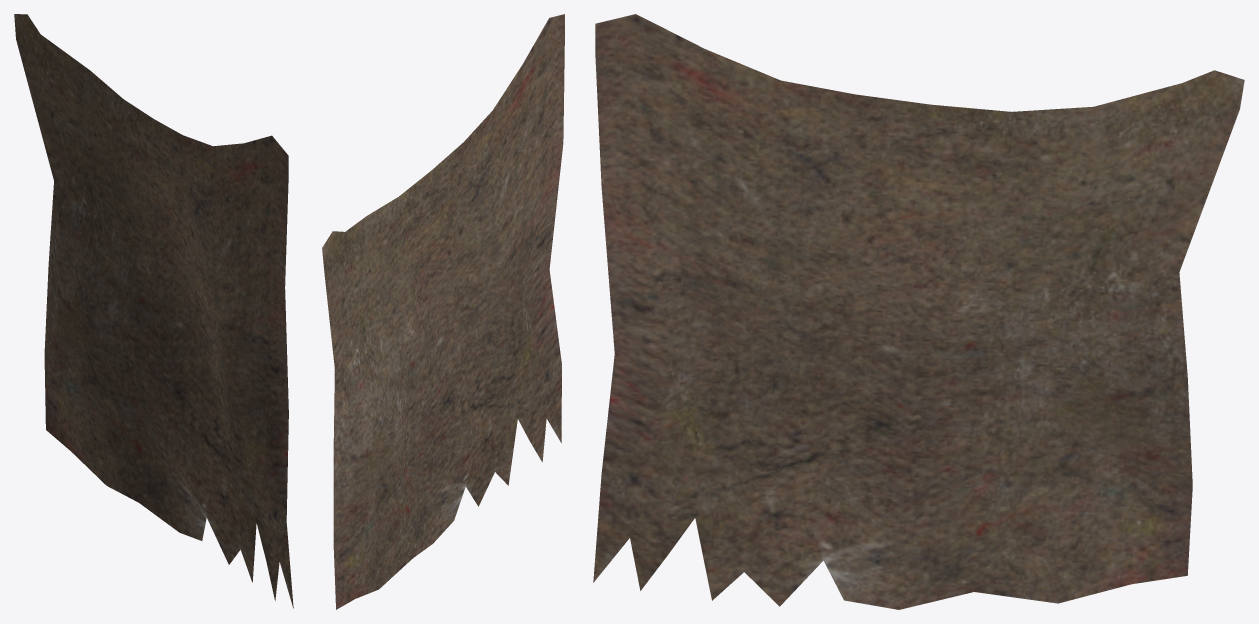
File: TornCloth_T03.FBX
3 renders of one model, left to right at view 1: azimuth 30°, elevation 25°; view 2: azimuth 150°, elevation 25°; view 3: azimuth 270°, elevation 25°, orthographic. The views are drawn at different scales.
Visible parts, largest first — view 1: TornCloth_T03; view 2: TornCloth_T03; view 3: TornCloth_T03.
Part boxes in pixels (bbox=[...]): TornCloth_T03: bbox=[14, 14, 293, 608]; TornCloth_T03: bbox=[322, 14, 564, 609]; TornCloth_T03: bbox=[593, 14, 1244, 609].
Bounding box in the file's own units: 11.32 × 207 × 208.
